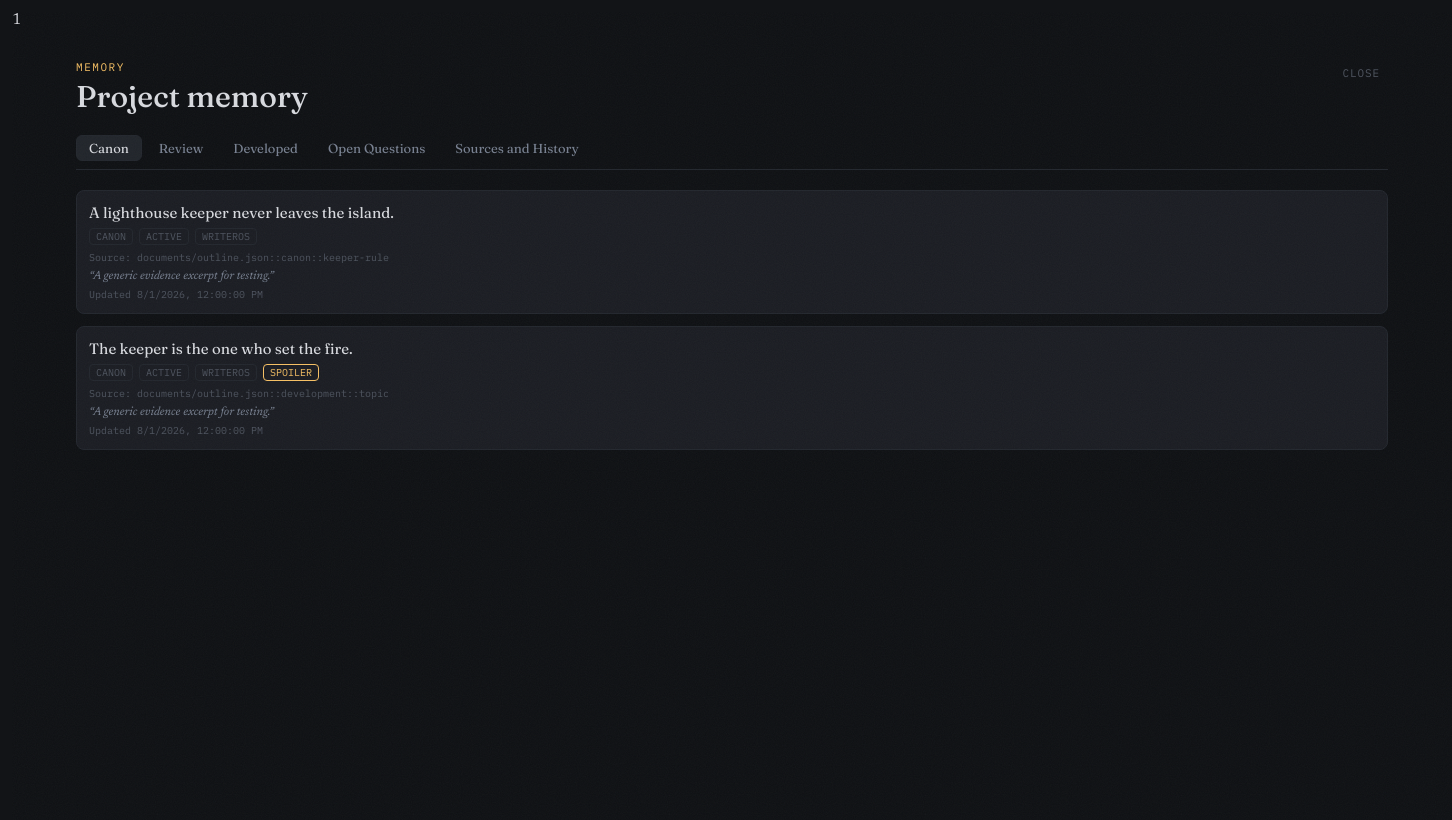
Test: MemorySurface › keeps a shared conflict-count readout (e.g. an App-level banner) in sync with an action taken in this surface — no separate refresh needed
Expected: the text with test id "banner-count" reads "1", [12,12,21,28]
Step 1. Click the tab "Review" → [181, 148], box [146,135,216,161]
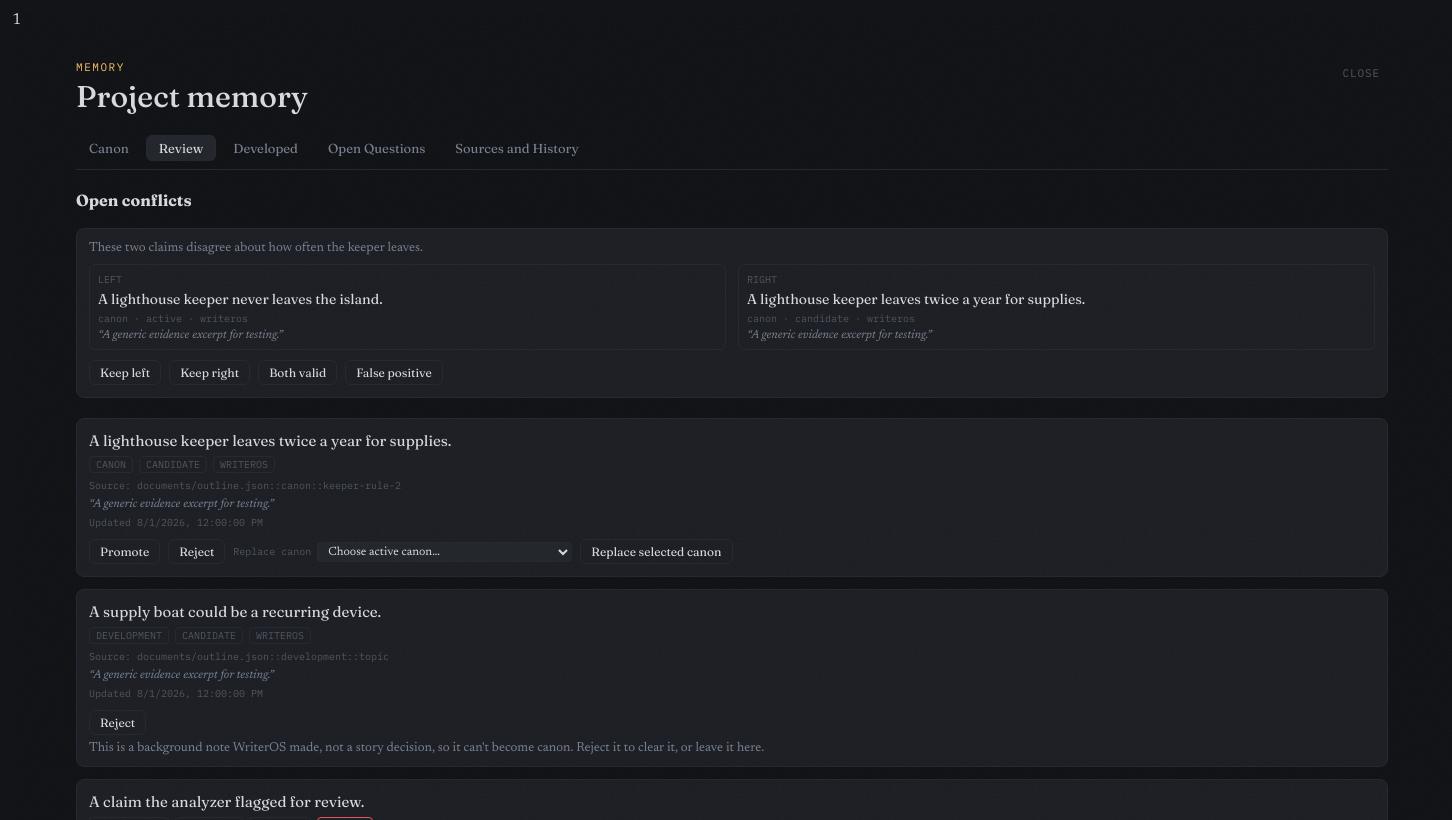
Step 2. Click the button "False positive" → [394, 372], box [345,360,443,385]
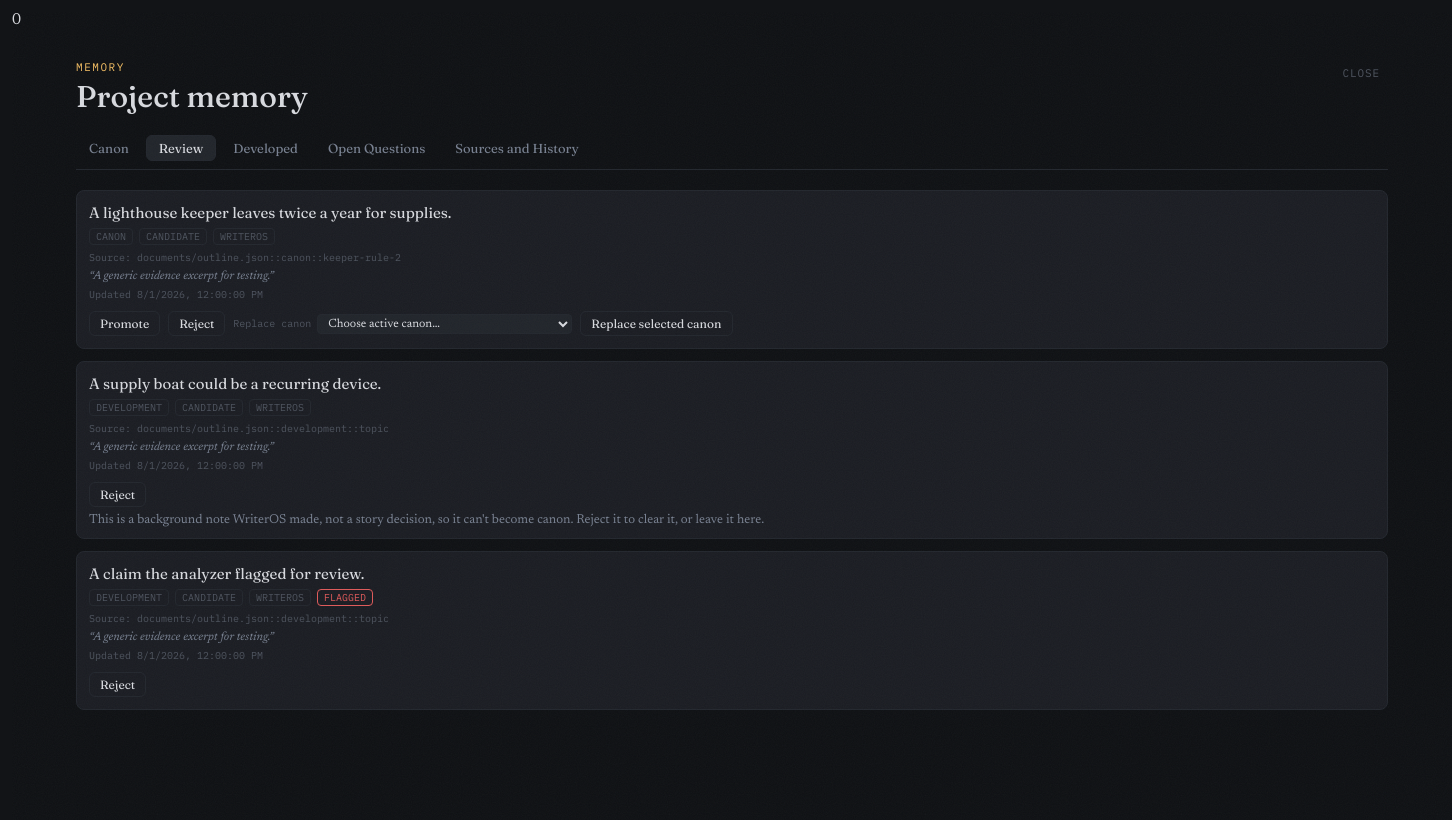
Now the text with test id "banner-count" reads "0", box [12,12,21,28]
